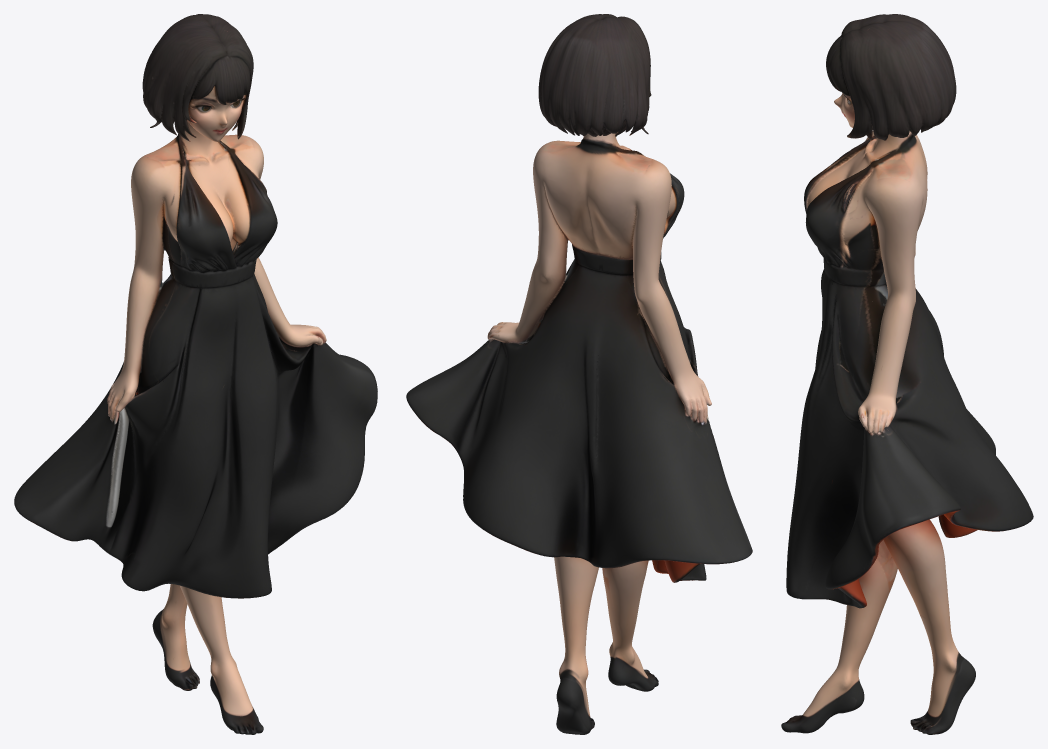
File: DeadlyBeauty.glb
3 views of the same model, side by side, from view 1: azimuth 30°, elevation 25°; view 2: azimuth 150°, elevation 25°; view 3: azimuth 270°, elevation 25° (orthographic). The views are drawn at different scales.
Size of the model in its own units: 0.9936 by 1.9 by 0.6115.
Materials: 1 (1 with a texture image).
